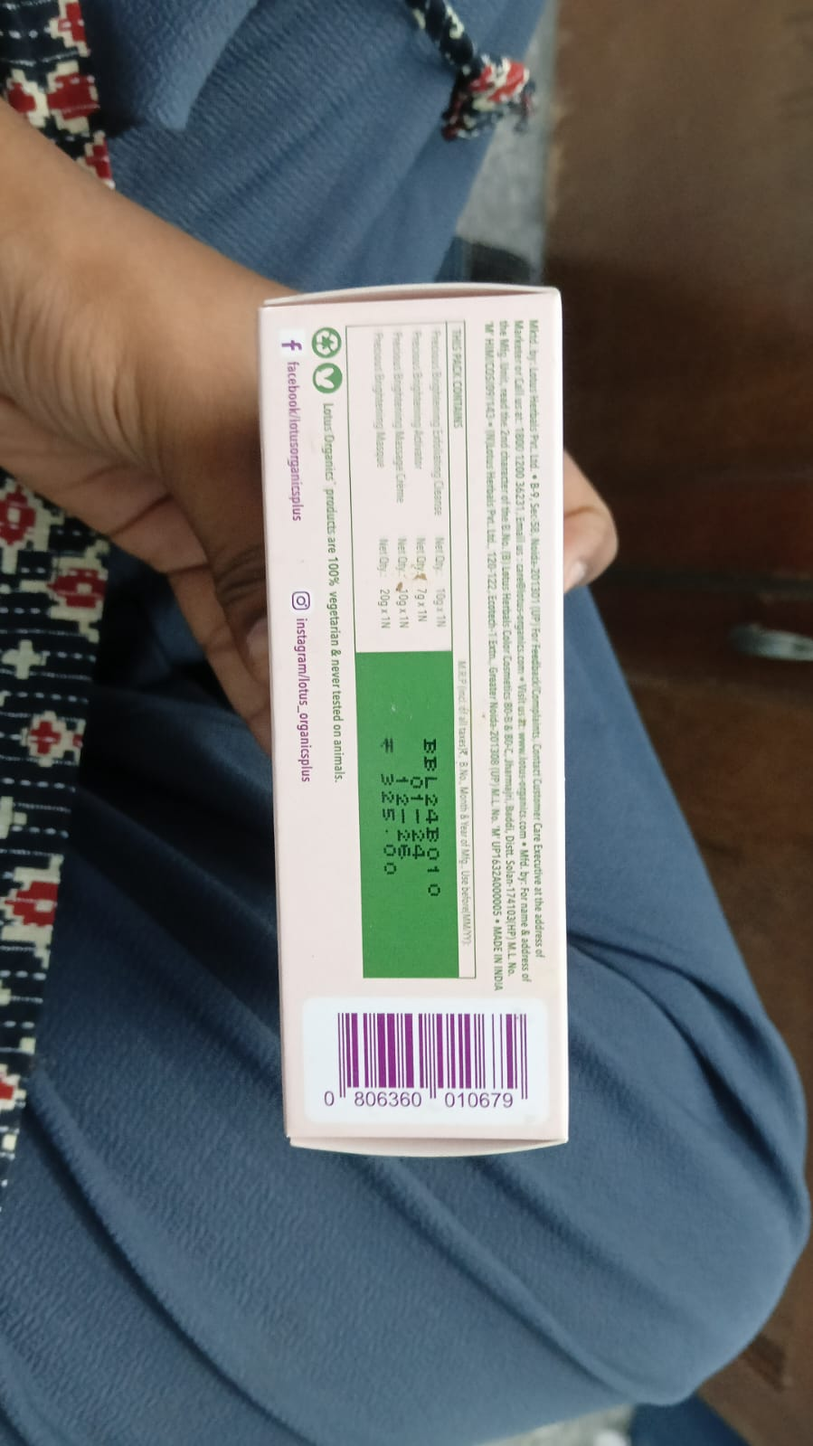brand_panel: (315, 395, 340, 481)
consumer_care: (513, 515, 531, 840)
manufacturer: (525, 310, 548, 471)
mfg_date: (408, 772, 427, 863)
mrp: (361, 714, 399, 886)
net_qty: (370, 535, 453, 635)
origin: (494, 924, 505, 992)
